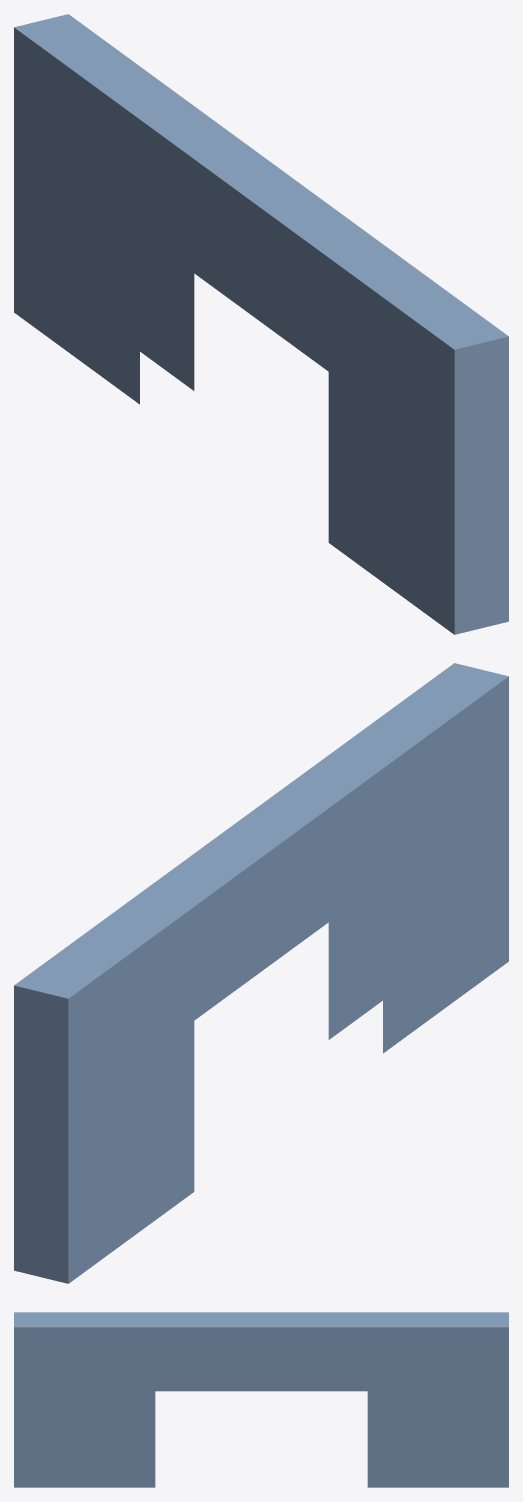
File: geometry-14b-doorinvisiblecollision.FBX
3 views of the same model, one above another, from view 1: azimuth 30°, elevation 25°; view 2: azimuth 150°, elevation 25°; view 3: azimuth 270°, elevation 25° (orthographic). The views are drawn at different scales.
Visible parts, largest first — view 1: room4-doorInvisibleCollision; view 2: room4-doorInvisibleCollision; view 3: room4-doorInvisibleCollision.
Part boxes in pixels (x1,y1,x2,y2): room4-doorInvisibleCollision: (14, 14, 508, 634); room4-doorInvisibleCollision: (14, 663, 508, 1283); room4-doorInvisibleCollision: (14, 1312, 508, 1487).
Bounding box in the file's own units: 20 × 100 × 280.
Materials: 1 (1 with a texture image).
